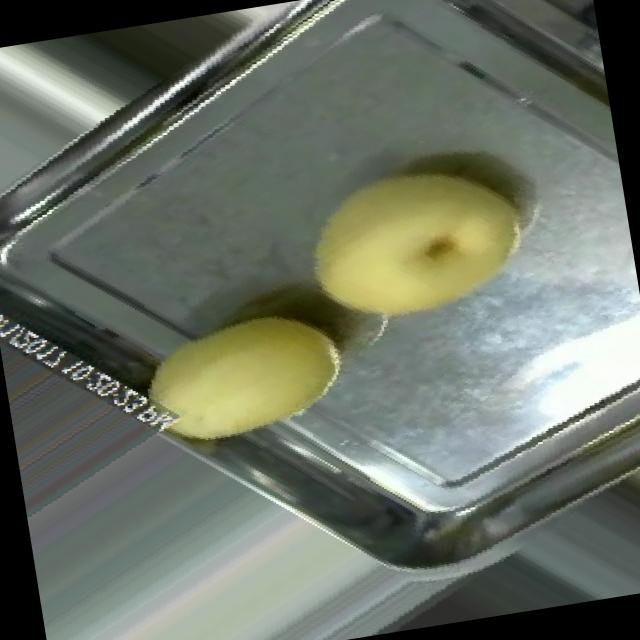Fruit: (274, 114, 564, 364), (108, 266, 370, 484)
